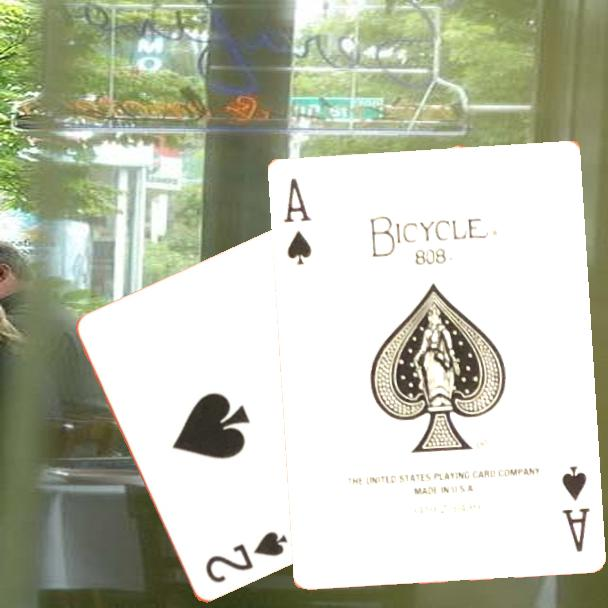s01: (280, 174, 314, 267), (558, 462, 592, 554)
s02: (201, 528, 291, 587)
